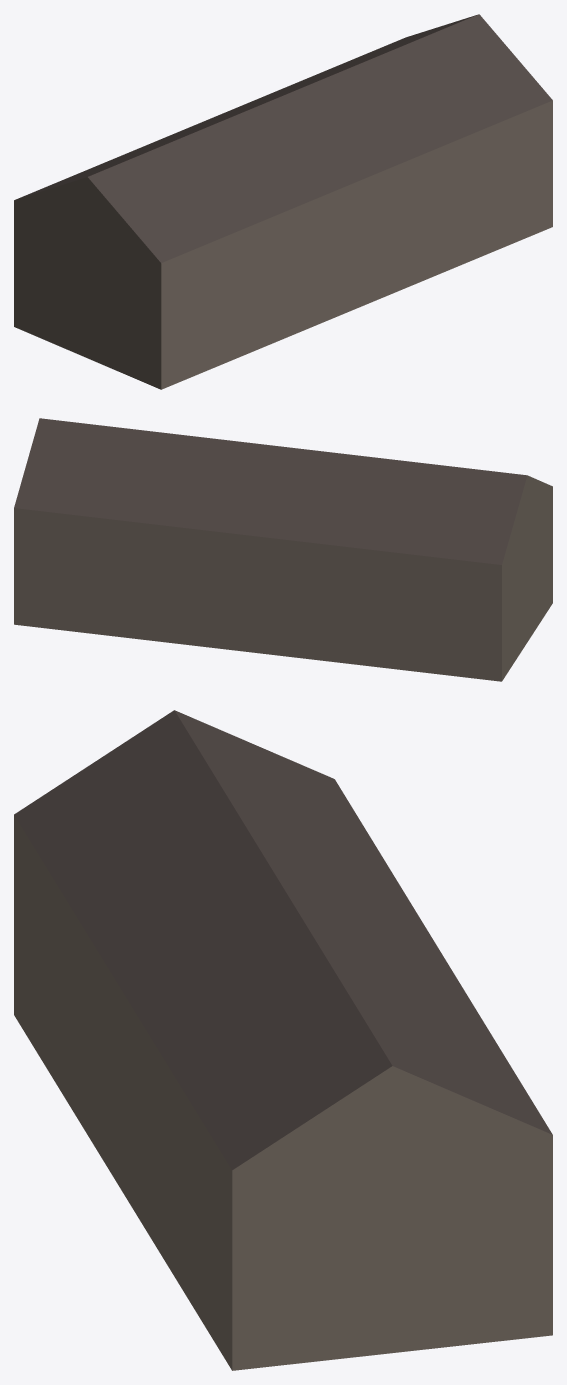
3 renders of one model, top to bottom at view 1: azimuth 30°, elevation 25°; view 2: azimuth 150°, elevation 25°; view 3: azimuth 270°, elevation 25°, orthographic. The views are drawn at different scales.
Visible parts, largest first — view 1: HP-w859424206; view 2: HP-w859424206; view 3: HP-w859424206.
Part boxes in pixels (x1,y1,x2,y2): HP-w859424206: (14,14,552,389); HP-w859424206: (14,418,552,681); HP-w859424206: (14,710,552,1370).
Bounding box in the file's own units: 25.13 × 8.6 × 14.62.
